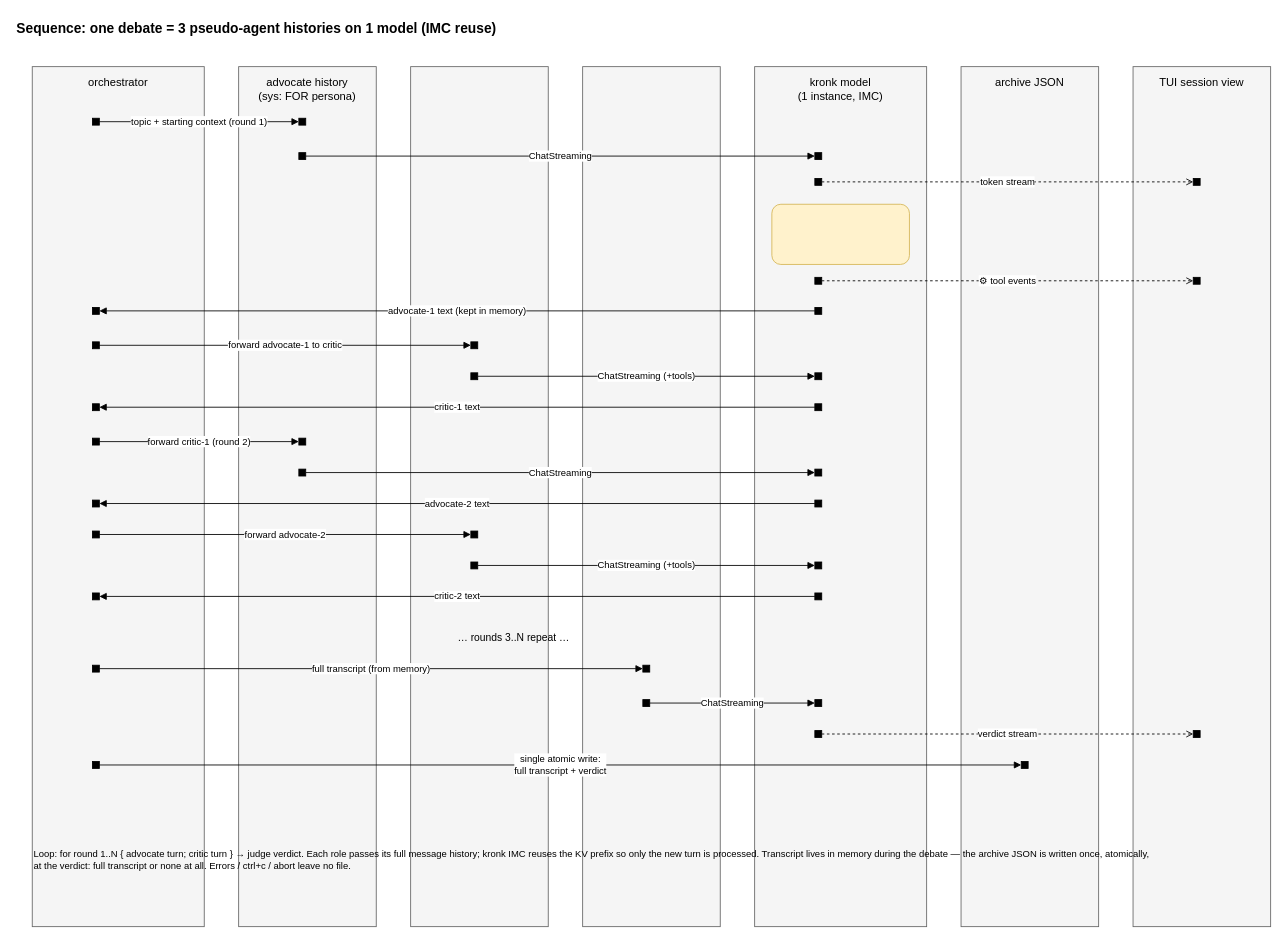
Image size: 1286x942. Some labels were removed from this diagram. Here are the shapes that lost their labels. From the top down, the box of each, then its label:
(771, 203, 909, 264): tool sub-loop (max 8) read_file/grep/list_dir → feed result back
(410, 66, 548, 927): critic history (sys: AGAINST)
(582, 66, 720, 927): judge history (sys: neutral)
